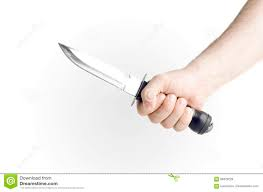knife: (54, 36, 223, 146)
